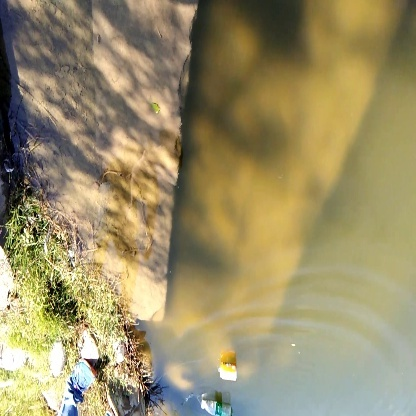bottle: (216, 359, 241, 385)
